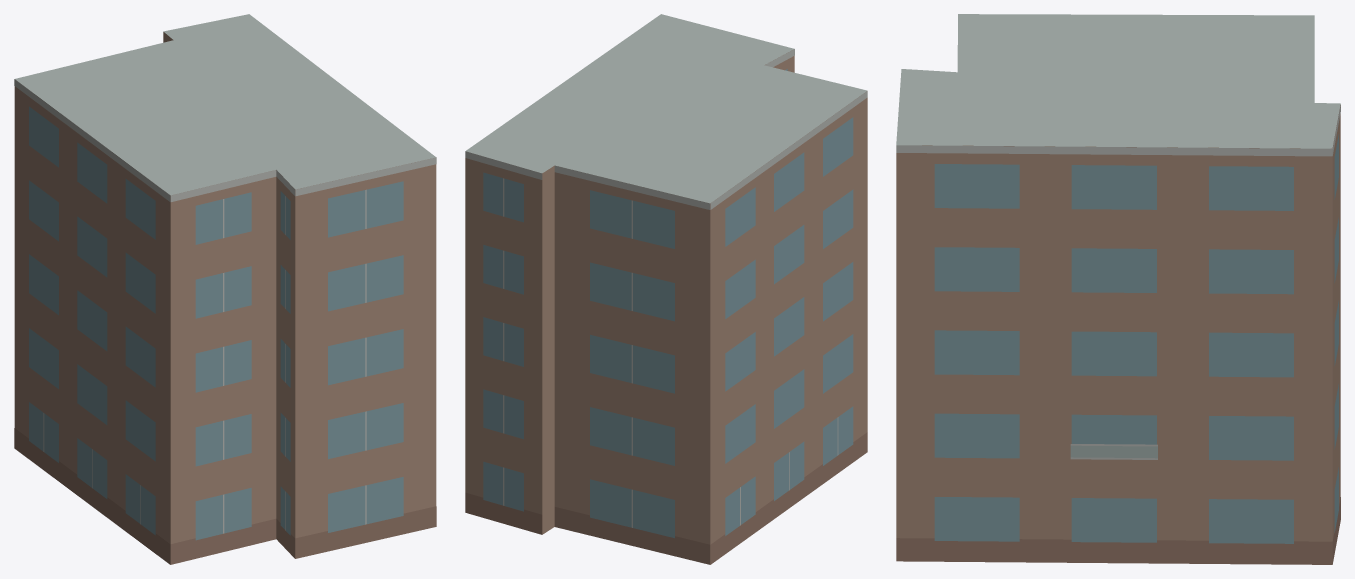
Rendered from survey-upis-32965096.glb.
3 renders of one model, left to right at view 1: azimuth 30°, elevation 25°; view 2: azimuth 150°, elevation 25°; view 3: azimuth 270°, elevation 25°, orthographic. The views are drawn at different scales.
Visible parts, largest first — view 1: survey-upis-32965096.tmp; view 2: survey-upis-32965096.tmp; view 3: survey-upis-32965096.tmp.
Boxes of the visible parts, left/top/right/bottom form: survey-upis-32965096.tmp: left=14, top=14, right=436, bottom=564; survey-upis-32965096.tmp: left=465, top=14, right=867, bottom=564; survey-upis-32965096.tmp: left=896, top=14, right=1340, bottom=564.
Bounding box in the file's own units: 9.1 × 13.1 × 12.69.
